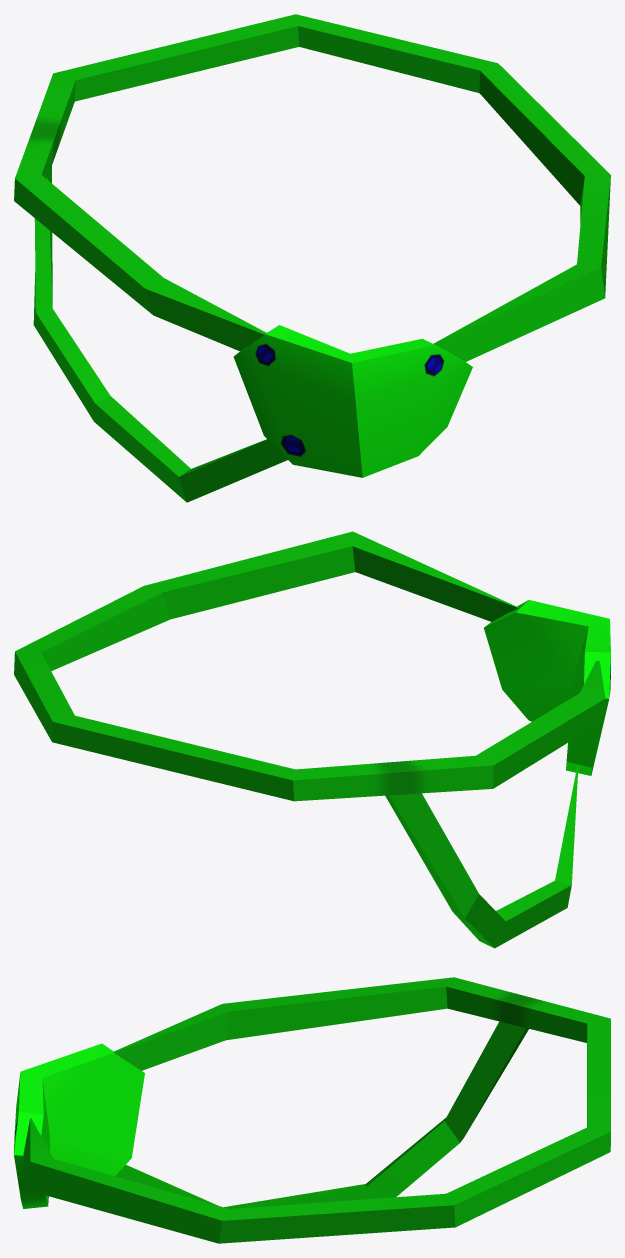
The model's file is Eyepatch_R.fbx.
3 renders of one model, top to bottom at view 1: azimuth 30°, elevation 25°; view 2: azimuth 150°, elevation 25°; view 3: azimuth 270°, elevation 25°, orthographic. The views are drawn at different scales.
Visible parts, largest first — view 1: Eyepatch_R; view 2: Eyepatch_R; view 3: Eyepatch_R.
Boxes of the visible parts, bbox=[...] form: Eyepatch_R: bbox=[14, 14, 610, 502]; Eyepatch_R: bbox=[14, 531, 610, 948]; Eyepatch_R: bbox=[14, 977, 610, 1243].
Size of the model in its own units: 23.95 by 12.37 by 26.81.
